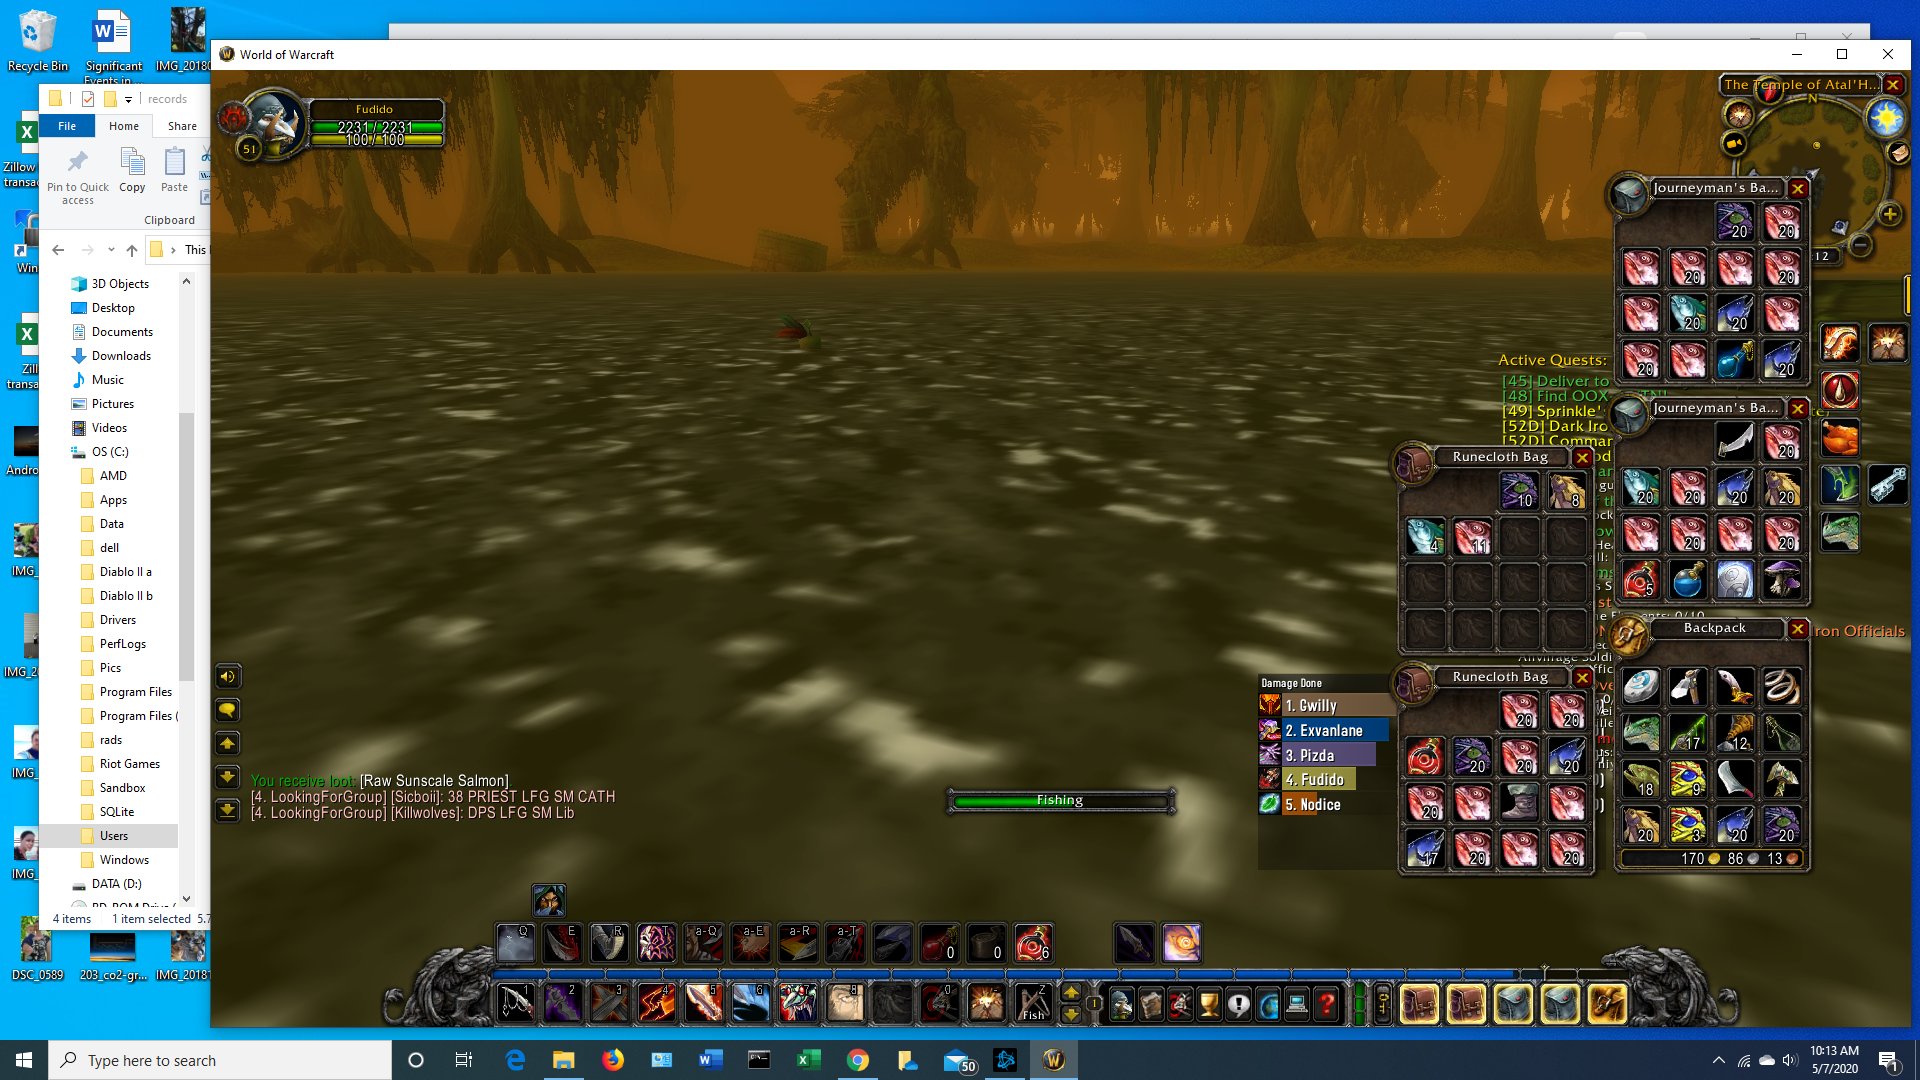bobber: (774, 311, 829, 361)
